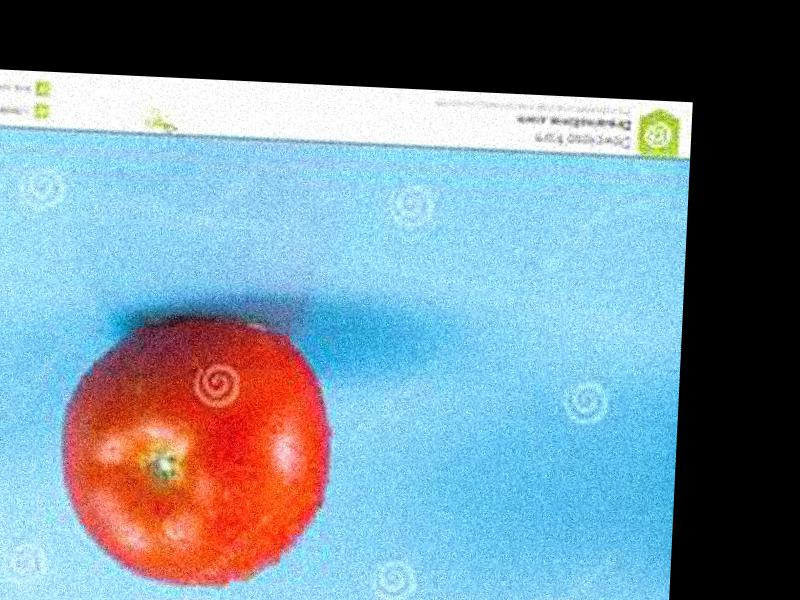Tomato: (52, 314, 336, 591)
